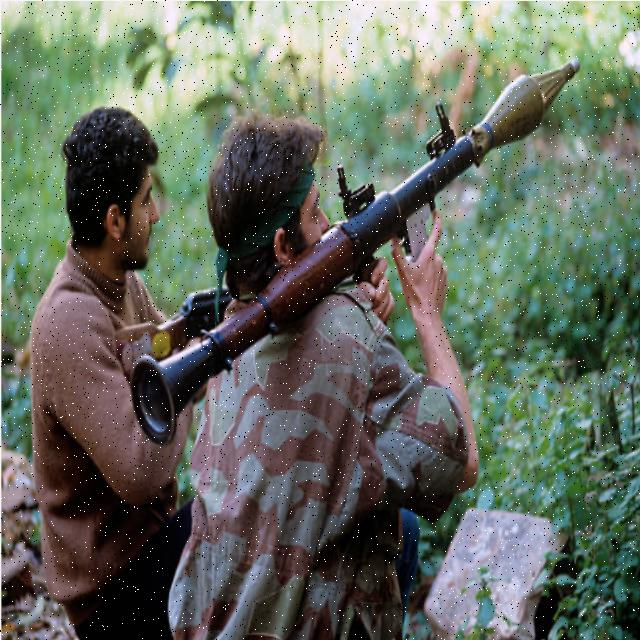bazooka: (124, 50, 586, 452)
